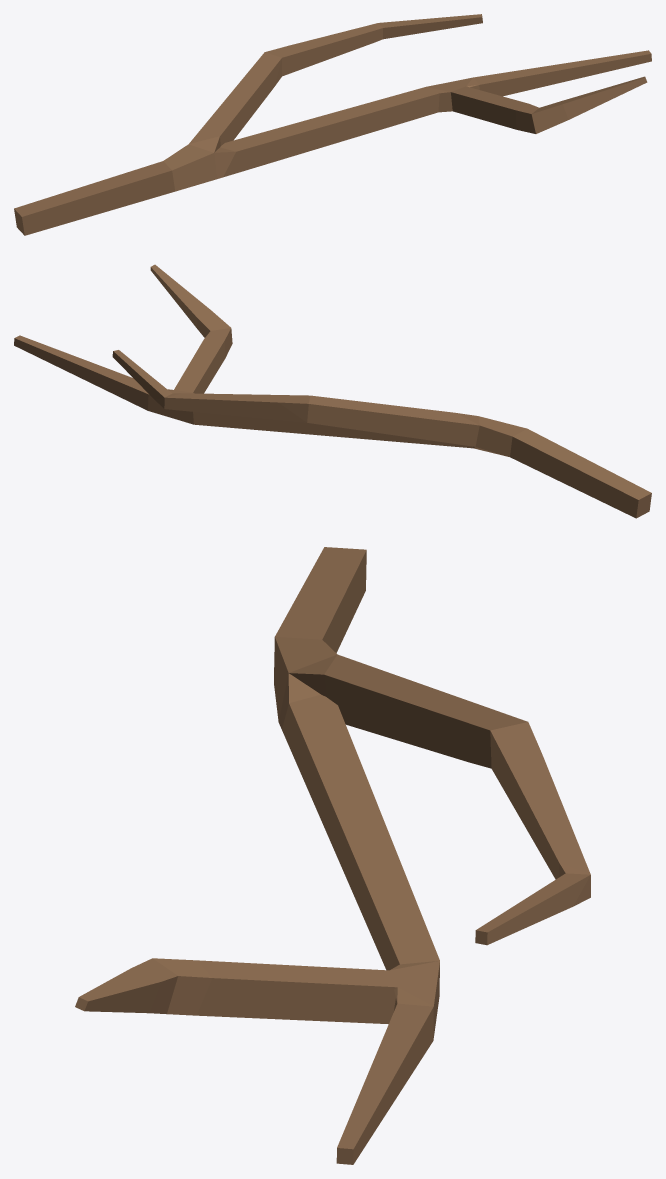
The model's file is branch02.fbx.
3 renders of one model, top to bottom at view 1: azimuth 30°, elevation 25°; view 2: azimuth 150°, elevation 25°; view 3: azimuth 270°, elevation 25°, orthographic. The views are drawn at different scales.
Parts seen in each view (by area): view 1: branch02; view 2: branch02; view 3: branch02.
Boxes of the visible parts, x1,y1,x2,y2 form: branch02: (14,14,651,235); branch02: (14,264,651,518); branch02: (75,547,590,1164).
Size of the model in its own units: 284 by 32.01 by 101.
